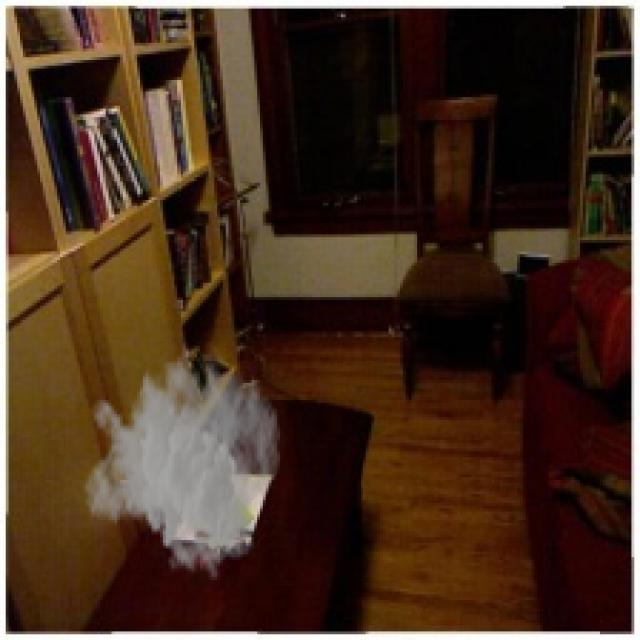smoke: (83, 334, 283, 583)
